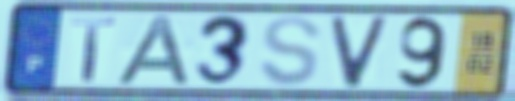3: (192, 12, 258, 89)
9: (395, 14, 452, 91)
A: (112, 13, 195, 88)
S: (256, 13, 324, 89)
T: (70, 15, 119, 84)
V: (327, 14, 393, 90)
